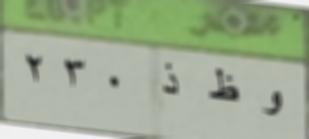0: (104, 69, 125, 95)
2: (22, 47, 46, 87)
3: (61, 56, 90, 93)
Thaa: (207, 65, 241, 108)
waw: (259, 89, 285, 122)
zaal: (157, 58, 184, 105)
